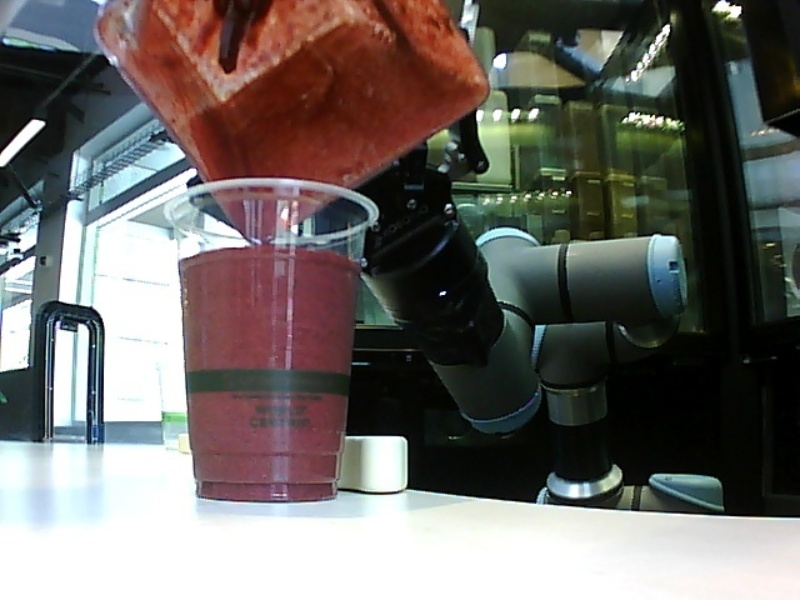cup: (162, 173, 381, 506)
limit: (177, 238, 365, 274)
